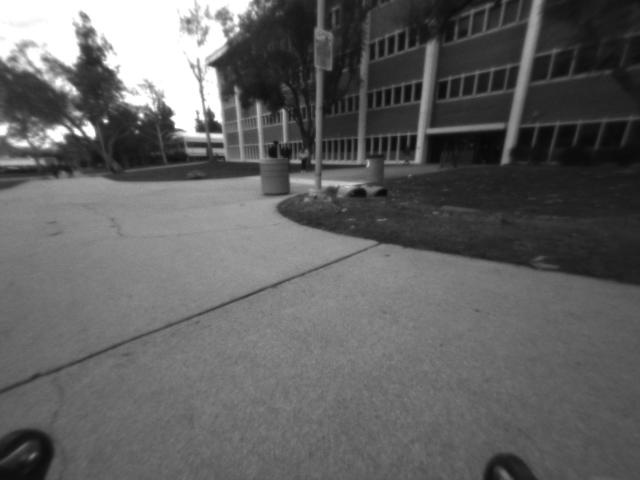trashcan: (255, 154, 295, 197), (361, 153, 385, 190)
